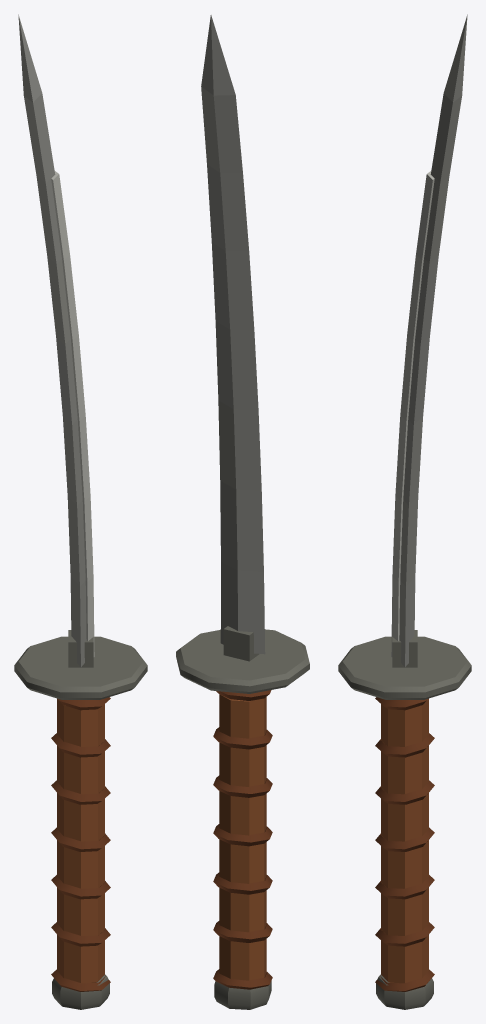
Rendered from StoneKatana.fbx.
3 views of the same model, side by side, from view 1: azimuth 90°, elevation 25°; view 2: azimuth 150°, elevation 25°; view 3: azimuth 270°, elevation 25° (orthographic). The views are drawn at different scales.
Visible parts, largest first — view 1: StoneKatana; view 2: StoneKatana; view 3: StoneKatana.
Boxes of the visible parts, x1,y1,x2,y2 form: StoneKatana: [14, 14, 147, 1009]; StoneKatana: [176, 15, 309, 1009]; StoneKatana: [338, 14, 471, 1009].
Size of the model in its own units: 0.6087 by 5.22 by 0.64.
Materials: 1 (1 with a texture image).
